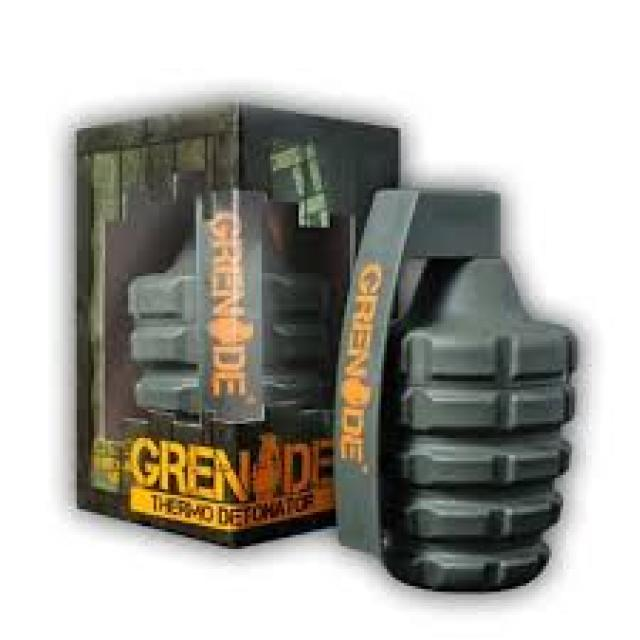grenade: (329, 174, 590, 602)
